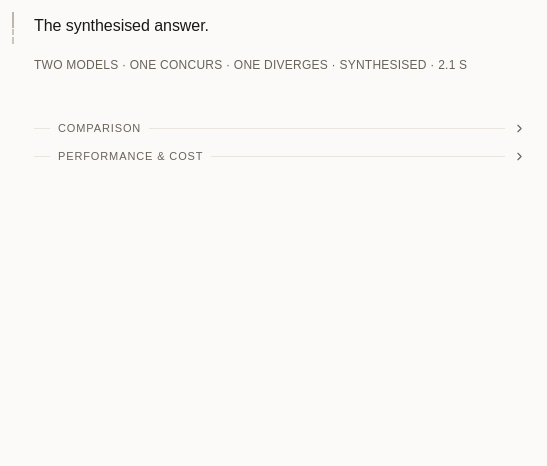
Scenario: AnswerBlock › keeps comparison collapsed until asked
Click the button with aria-label "model-by-model comparison".
click(100, 128)  # box 34,116 -> 526,140
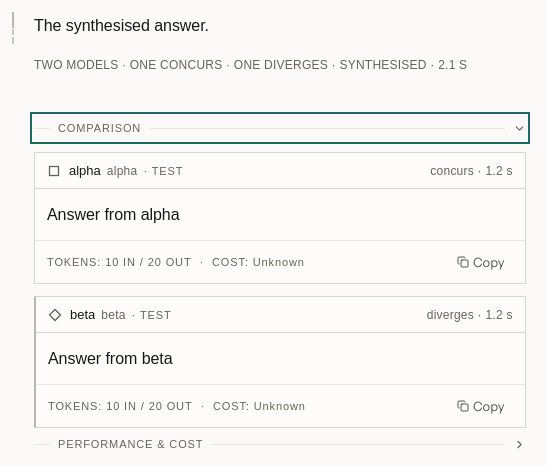
Result: the button with aria-label "model-by-model comparison" is expanded at 34,116 -> 526,140
